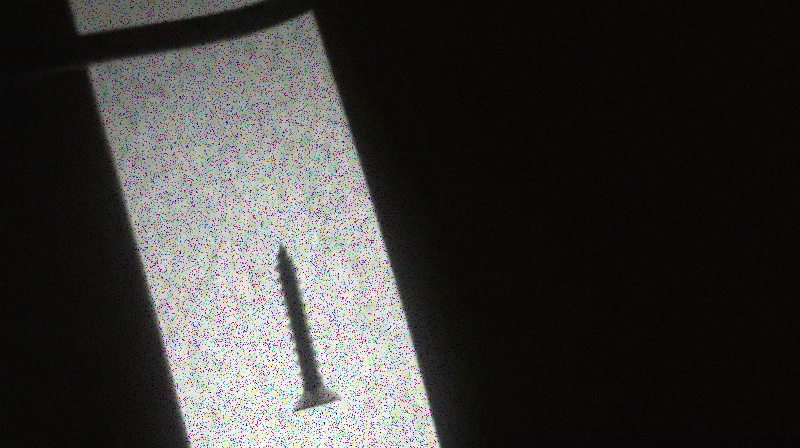S001: (270, 240, 344, 417)
